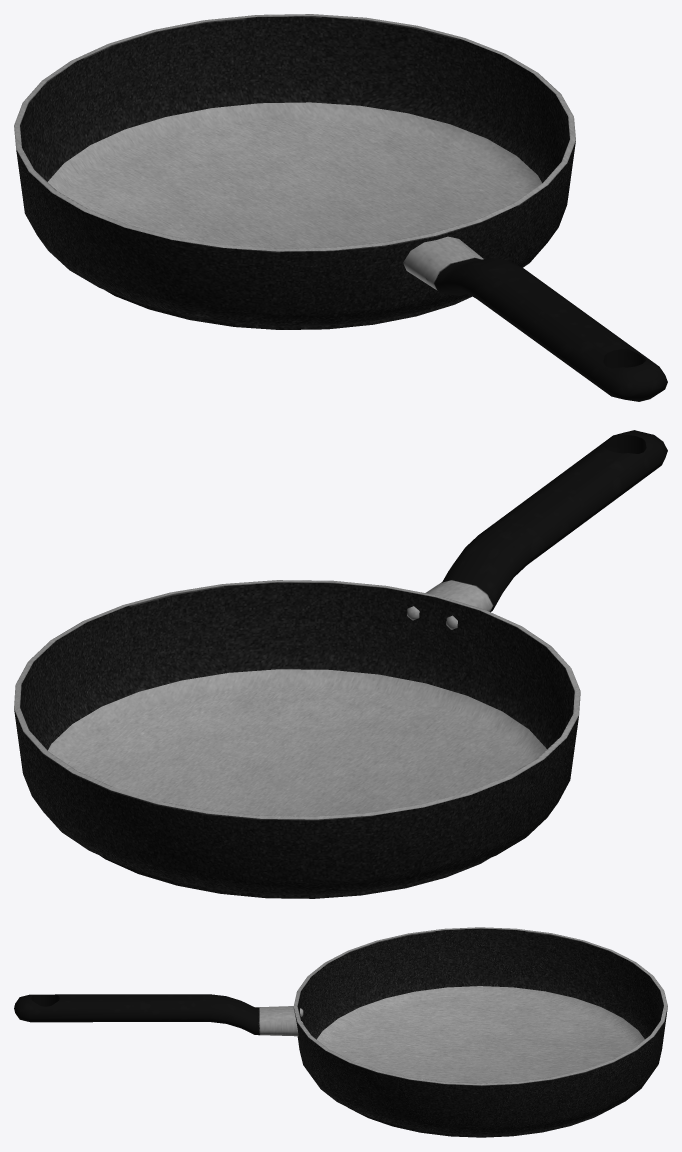
The model's file is pan_fish.glb.
3 renders of one model, top to bottom at view 1: azimuth 30°, elevation 25°; view 2: azimuth 150°, elevation 25°; view 3: azimuth 270°, elevation 25°, orthographic. The views are drawn at different scales.
Visible parts, largest first — view 1: Fry_pan1.001; view 2: Fry_pan1.001; view 3: Fry_pan1.001.
Boxes of the visible parts, <box> form: Fry_pan1.001: <box>14,14,667,401</box>; Fry_pan1.001: <box>14,430,667,898</box>; Fry_pan1.001: <box>14,927,667,1137</box>.
Size of the model in its own units: 0.22 by 0.047 by 0.3844.
1 material, 1 textured.
